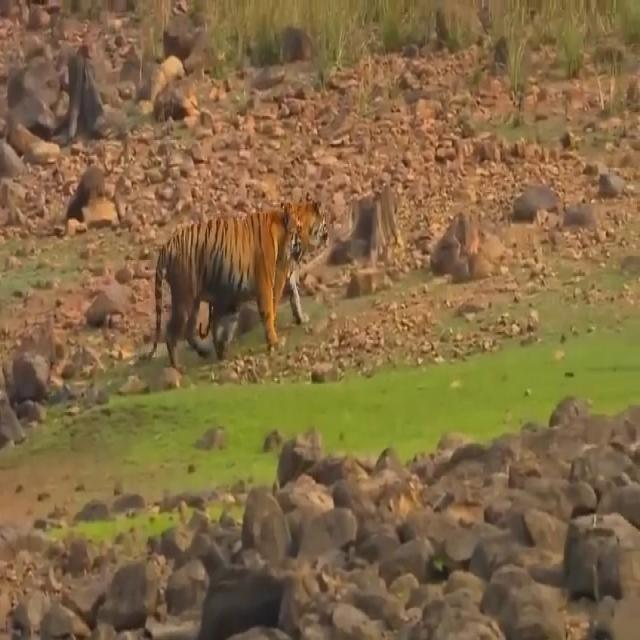tiger: (138, 197, 306, 369)
